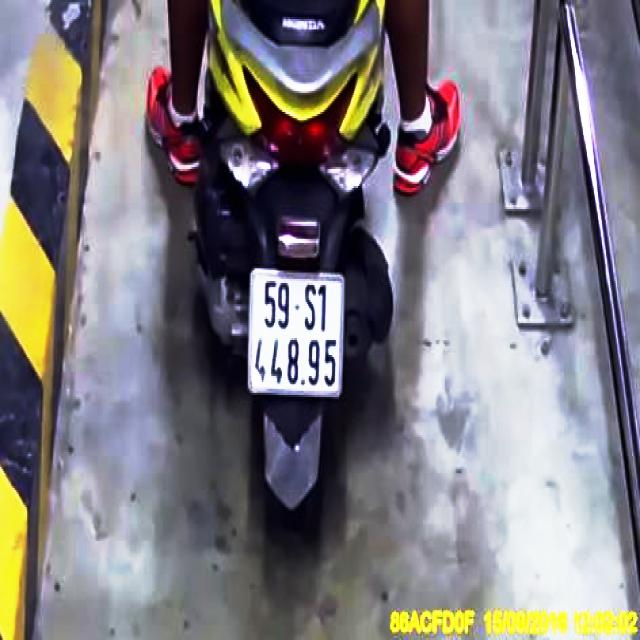license_plate: (251, 271, 345, 397)
